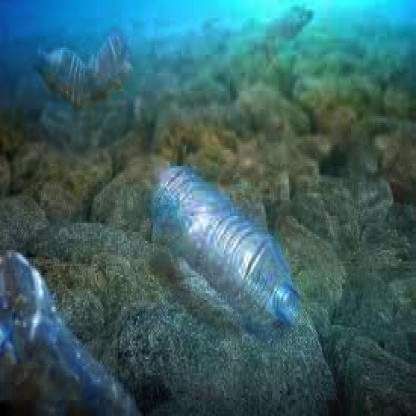pbottle: (144, 157, 307, 332), (1, 241, 150, 416), (26, 27, 140, 107)
